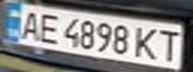4: (60, 16, 81, 48)
8: (112, 21, 133, 56), (78, 17, 96, 52)
9: (93, 20, 115, 53)
A: (15, 8, 45, 41)
E: (33, 11, 63, 44)
K: (133, 25, 163, 61)
T: (154, 27, 184, 62)
